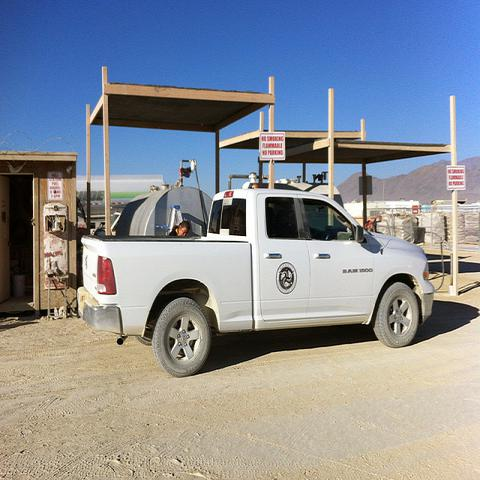truck: (77, 188, 436, 377)
